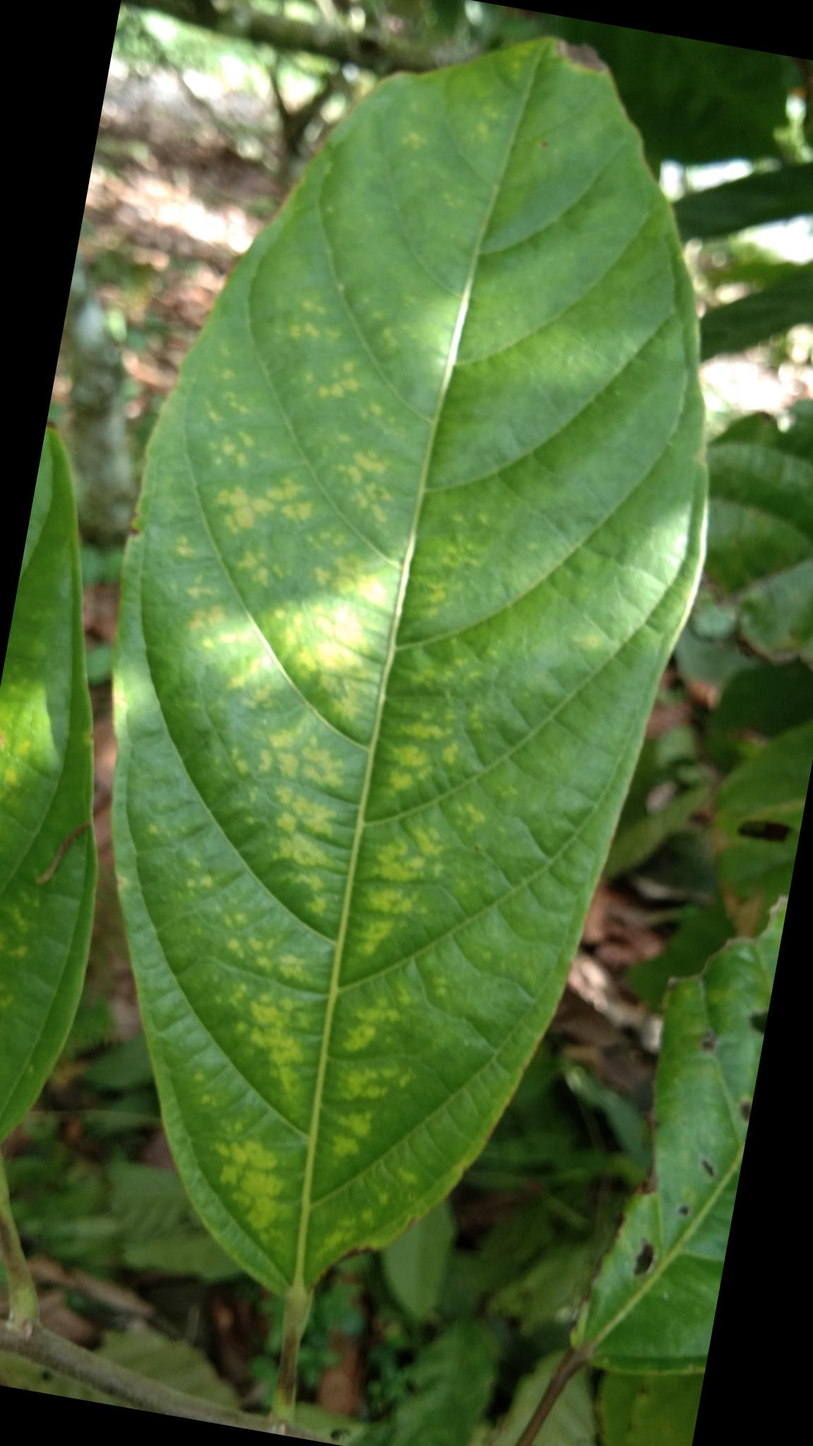Fosforo: (95, 13, 702, 1343)
